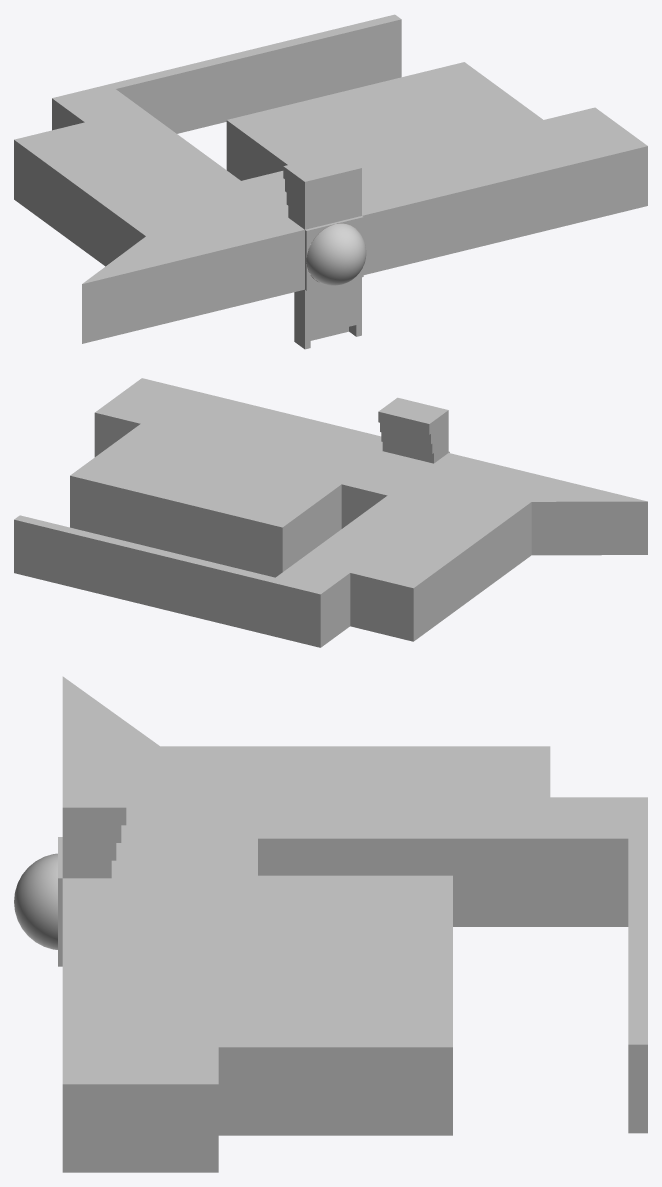
The model's file is Obstacles.fbx.
3 views of the same model, one above another, from view 1: azimuth 30°, elevation 25°; view 2: azimuth 150°, elevation 25°; view 3: azimuth 270°, elevation 25° (orthographic). The views are drawn at different scales.
Parts seen in each view (by area): view 1: ClimbParkour, Highgrounds, Slide, Stairs, ClimbSlope, Sphere, Slopes, Crouch, Platform; view 2: Highgrounds, ClimbParkour, Slide, ClimbSlope, Stairs; view 3: Highgrounds, ClimbParkour, ClimbWall, Slide, ClimbSlope, Stairs, Sphere, Slopes.
Part boxes in pixels (bbox=[...]): ClimbParkour: bbox=[52, 14, 592, 302]; Highgrounds: bbox=[14, 62, 647, 319]; Slide: bbox=[82, 171, 390, 343]; Stairs: bbox=[283, 152, 361, 337]; ClimbSlope: bbox=[165, 169, 304, 243]; Sphere: bbox=[307, 223, 366, 285]; Slopes: bbox=[247, 202, 419, 302]; Crouch: bbox=[294, 194, 419, 349]; Platform: bbox=[305, 216, 363, 290]; Highgrounds: bbox=[70, 378, 531, 641]; ClimbParkour: bbox=[14, 390, 422, 647]; Slide: bbox=[322, 452, 647, 555]; ClimbSlope: bbox=[375, 453, 499, 519]; Stairs: bbox=[378, 397, 448, 463]; Highgrounds: bbox=[62, 746, 550, 1172]; ClimbParkour: bbox=[62, 797, 647, 1133]; ClimbWall: bbox=[258, 838, 628, 926]; Slide: bbox=[62, 676, 257, 898]; ClimbSlope: bbox=[121, 795, 306, 836]; Stairs: bbox=[62, 766, 126, 878]; Sphere: bbox=[14, 853, 57, 949]; Slopes: bbox=[116, 837, 160, 855].
Bounding box in the file's own units: 49.5 × 32.5 × 14.
